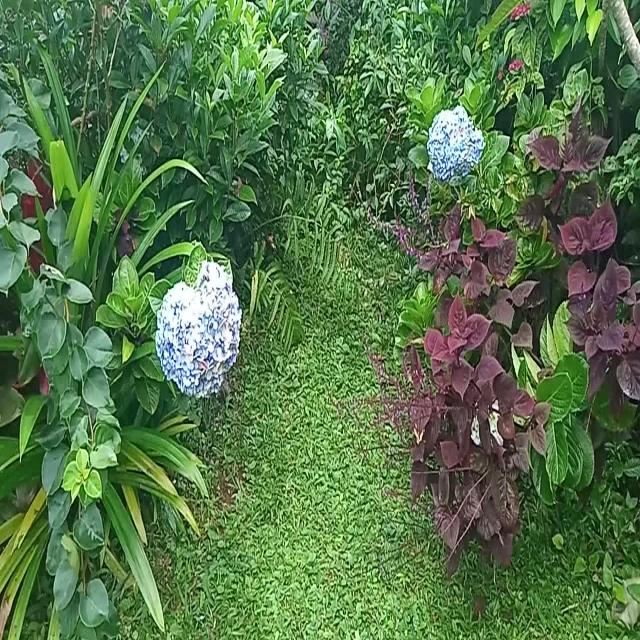Flower: (155, 258, 243, 401), (425, 101, 487, 191)
